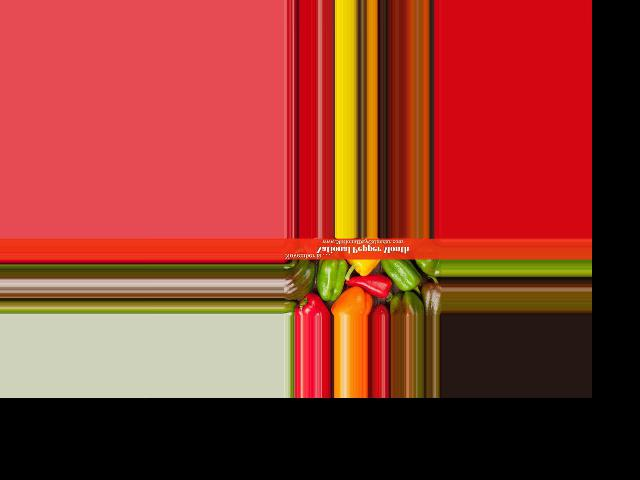bell_pepper: (284, 259, 315, 299)
